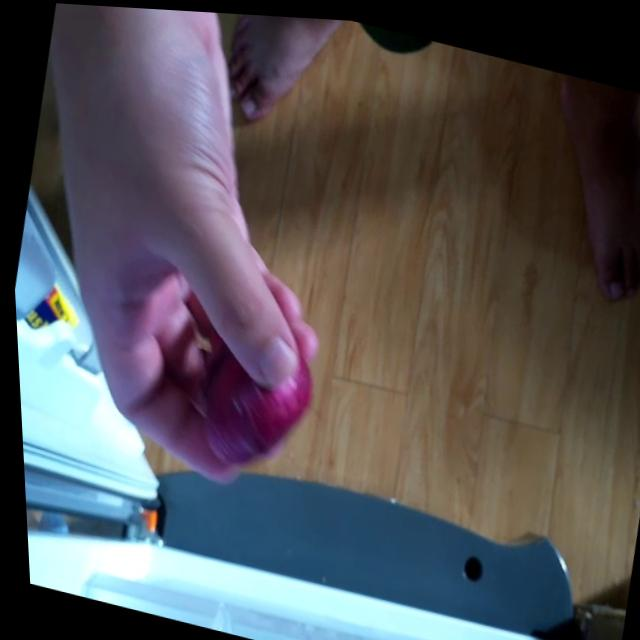onion: (175, 316, 323, 481)
